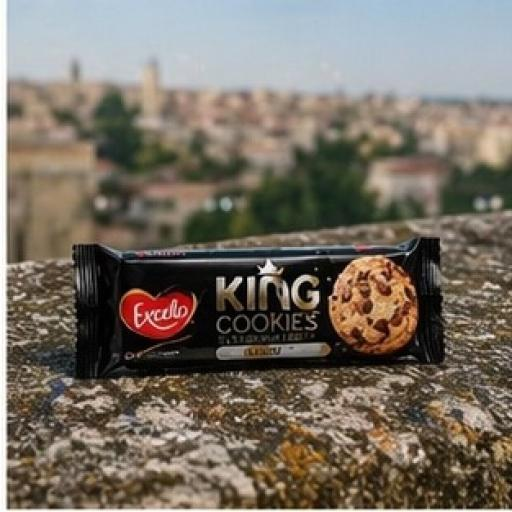king_cooking: (44, 183, 497, 452)
